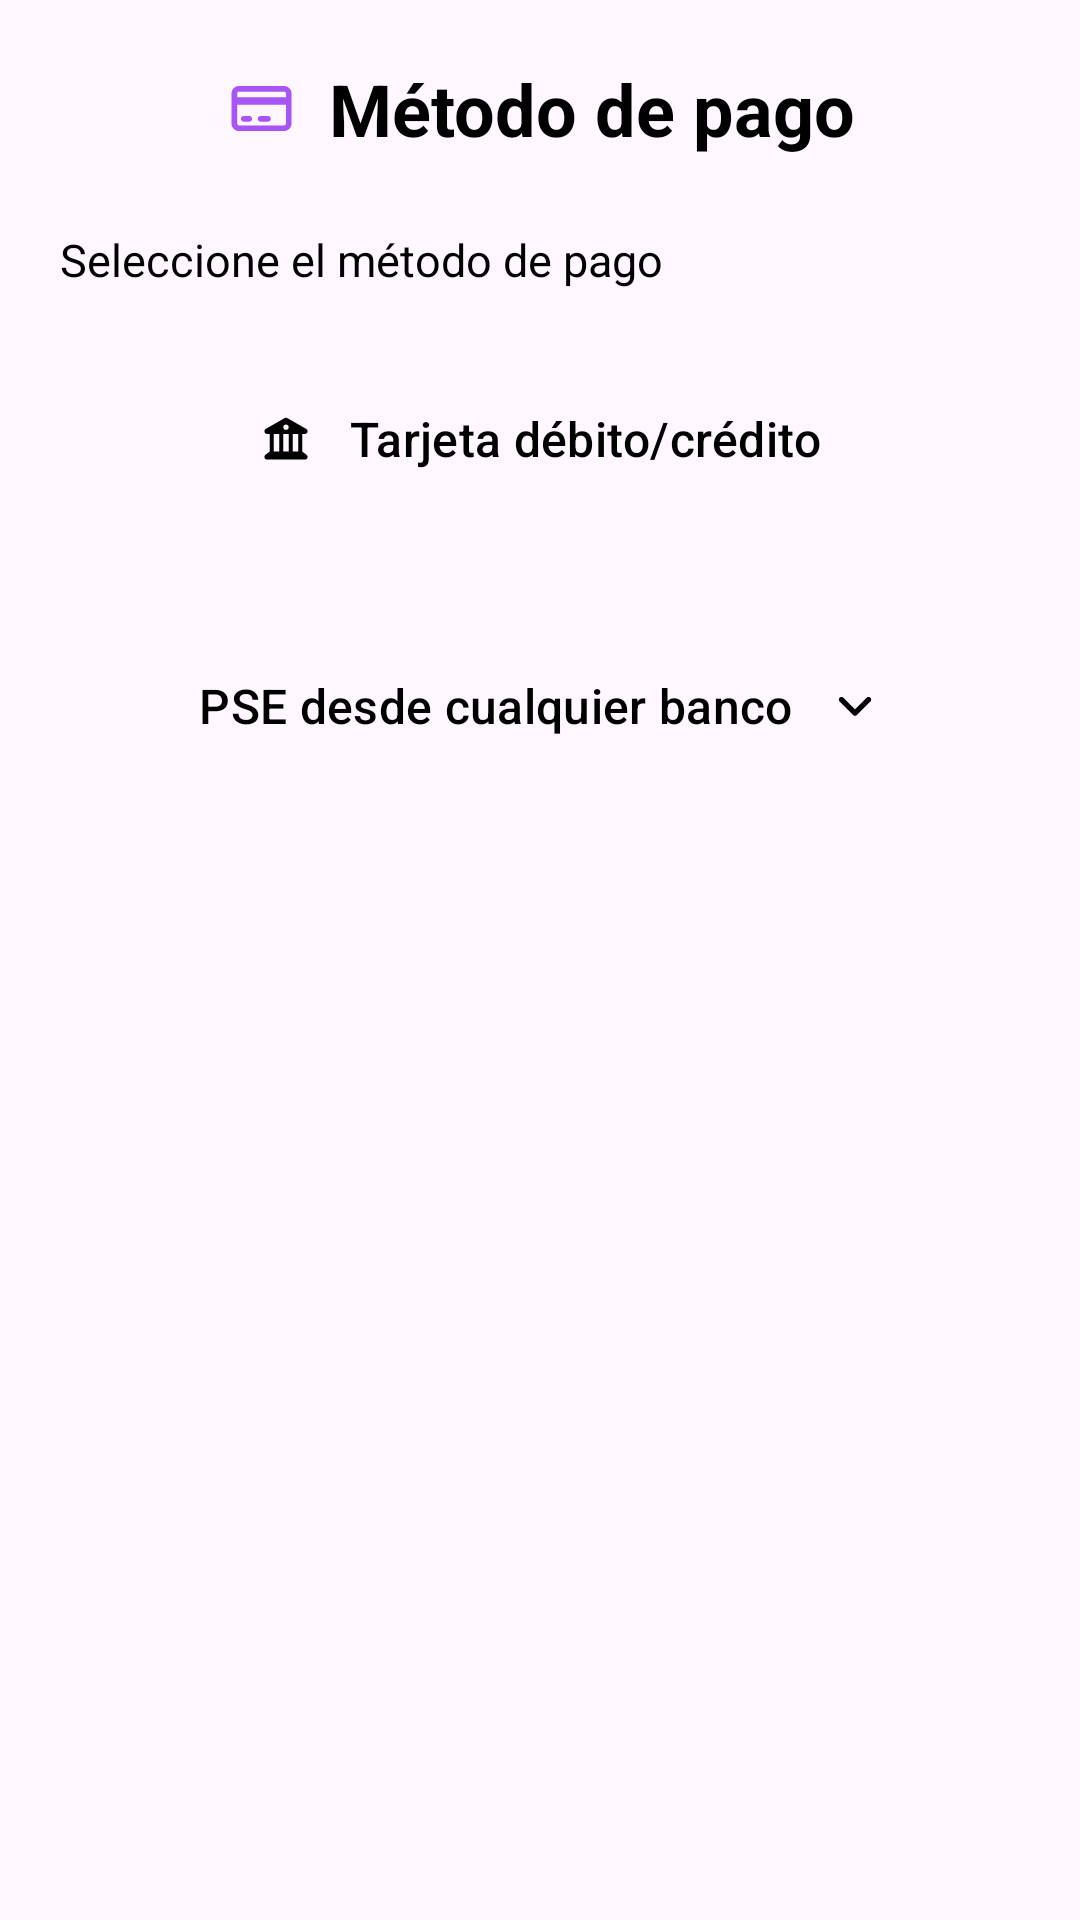

Point at icon controls on the screen. Image size 1080 × 1920, points as (x=x, y=y).
credit card full: (x=261, y=108)
